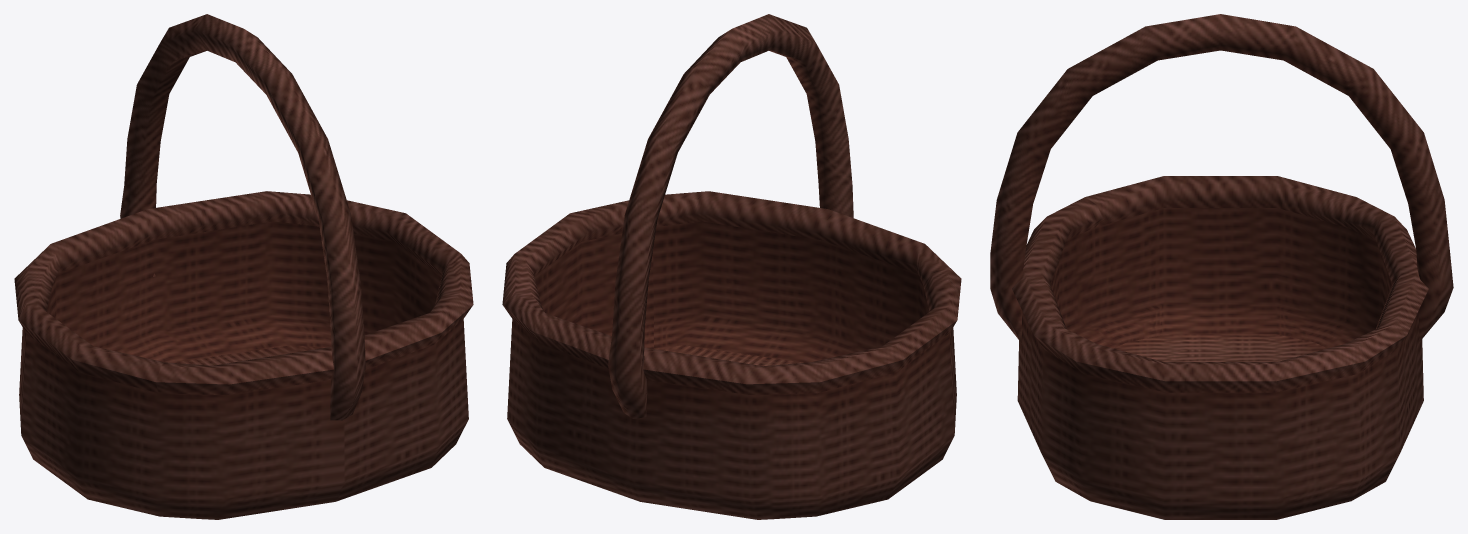
Rendered from Basket.fbx.
3 views of the same model, side by side, from view 1: azimuth 30°, elevation 25°; view 2: azimuth 150°, elevation 25°; view 3: azimuth 270°, elevation 25° (orthographic). The views are drawn at different scales.
Visible parts, largest first — view 1: Basket_01; view 2: Basket_01; view 3: Basket_01.
Part boxes in pixels (x1,y1,x2,y2): Basket_01: (14,14,473,519); Basket_01: (502,14,961,519); Basket_01: (990,14,1453,519).
Bounding box in the file's own units: 104 × 104 × 103.
